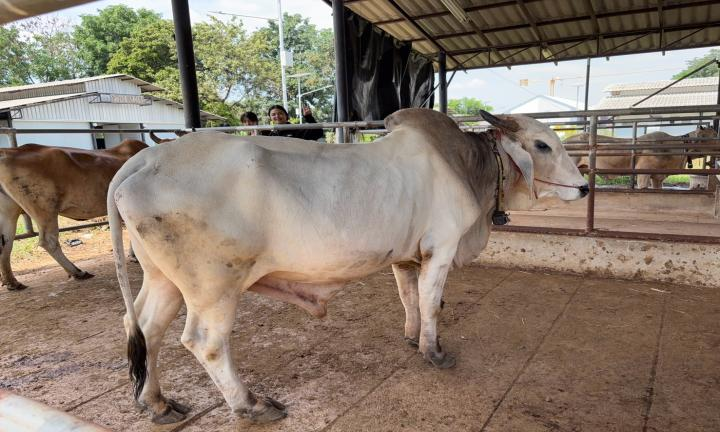Brahman: (107, 108, 588, 422)
